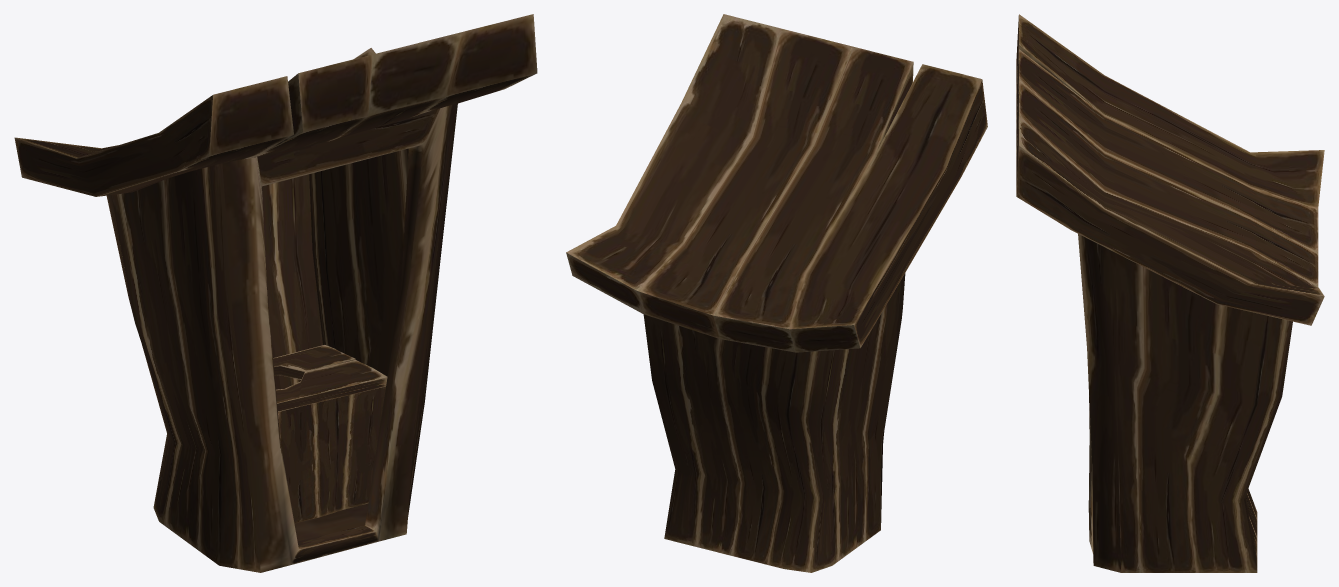
The model's file is SM_PROP_outhouse.glb.
3 views of the same model, side by side, from view 1: azimuth 30°, elevation 25°; view 2: azimuth 150°, elevation 25°; view 3: azimuth 270°, elevation 25° (orthographic). The views are drawn at different scales.
Visible parts, largest first — view 1: SM_PROP_outhouse_EXPORT; view 2: SM_PROP_outhouse_EXPORT; view 3: SM_PROP_outhouse_EXPORT.
Part boxes in pixels (left/top/right/bottom): SM_PROP_outhouse_EXPORT: left=14, top=14, right=537, bottom=572; SM_PROP_outhouse_EXPORT: left=566, top=14, right=987, bottom=572; SM_PROP_outhouse_EXPORT: left=1016, top=14, right=1324, bottom=572.
Size of the model in its own units: 1.91 by 2.72 by 1.67.
Materials: 1 (1 with a texture image).
